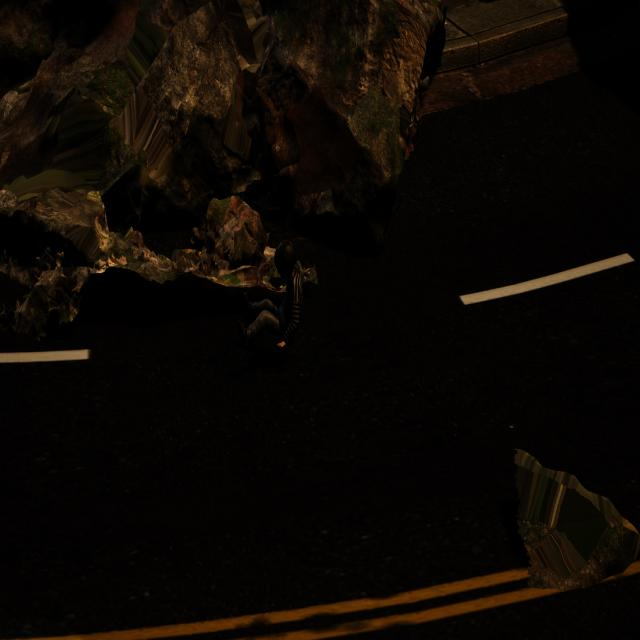Human: (229, 231, 308, 365)
